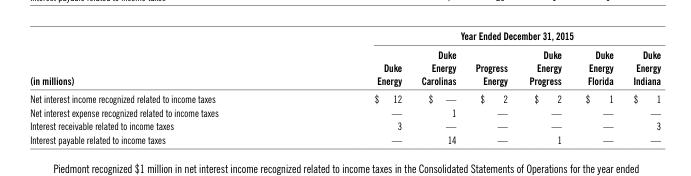table: (29, 29, 660, 145)
table column: (29, 29, 295, 145), (295, 29, 410, 145), (410, 29, 465, 145), (517, 29, 572, 145), (465, 29, 517, 145), (572, 29, 622, 145), (622, 29, 660, 145)
table column header: (29, 29, 660, 89)
table row: (29, 44, 660, 89), (29, 89, 660, 105), (29, 29, 660, 44), (29, 118, 660, 132), (29, 105, 660, 118), (29, 132, 660, 145)
table spanning cell: (29, 29, 295, 89), (295, 29, 660, 44)
